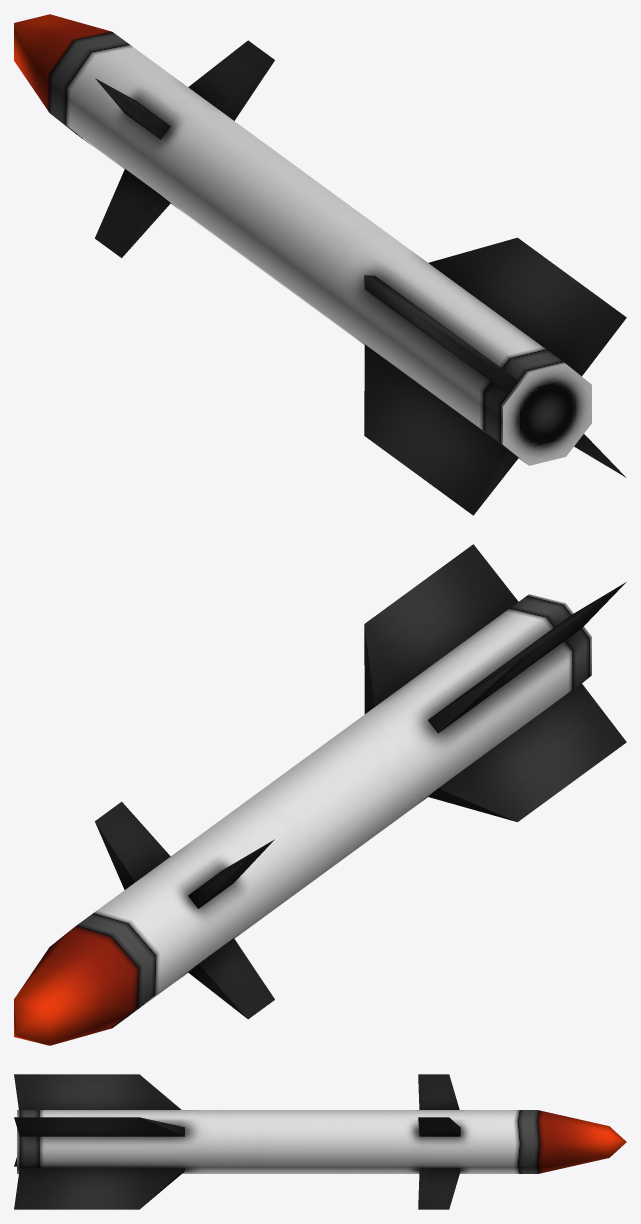
File: Missile.FBX
3 renders of one model, top to bottom at view 1: azimuth 30°, elevation 25°; view 2: azimuth 150°, elevation 25°; view 3: azimuth 270°, elevation 25°, orthographic. The views are drawn at different scales.
Parts seen in each view (by area): view 1: weaponsystem_quadrockets; view 2: weaponsystem_quadrockets; view 3: weaponsystem_quadrockets.
Boxes of the visible parts, x1,y1,x2,y2 form: weaponsystem_quadrockets: (14, 14, 626, 515); weaponsystem_quadrockets: (14, 544, 626, 1045); weaponsystem_quadrockets: (14, 1074, 626, 1209).
Size of the model in its own units: 1.69 by 1.69 by 10.17.
